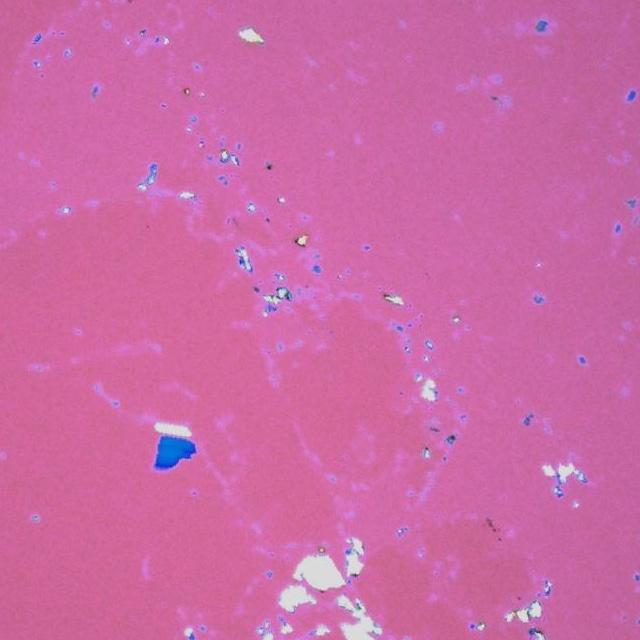monolayer-eWW4: (154, 467, 168, 472)
